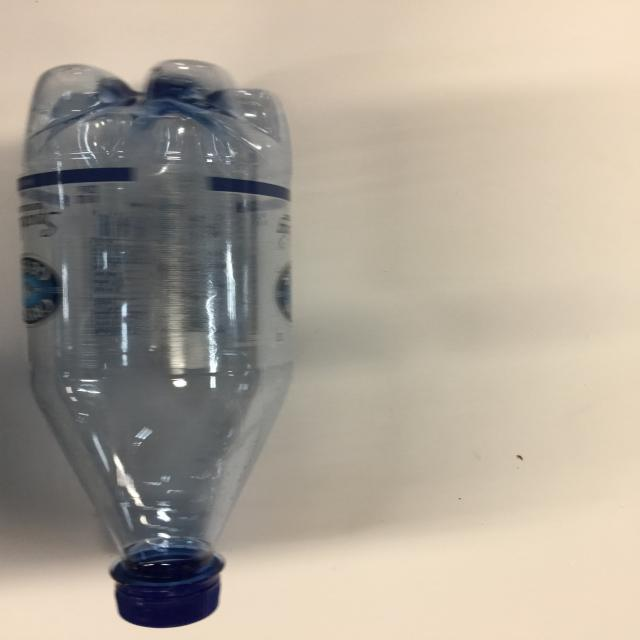plastic: (19, 63, 290, 632)
